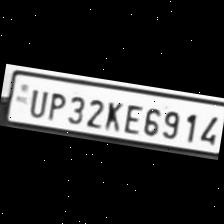1: (178, 109, 199, 143)
2: (82, 94, 106, 128)
3: (62, 90, 88, 126)
4: (195, 111, 222, 146)
6: (138, 103, 162, 137)
9: (157, 105, 183, 139)
E: (120, 100, 143, 134)
K: (100, 97, 123, 130)
P: (43, 88, 66, 122)
U: (23, 84, 49, 118)
